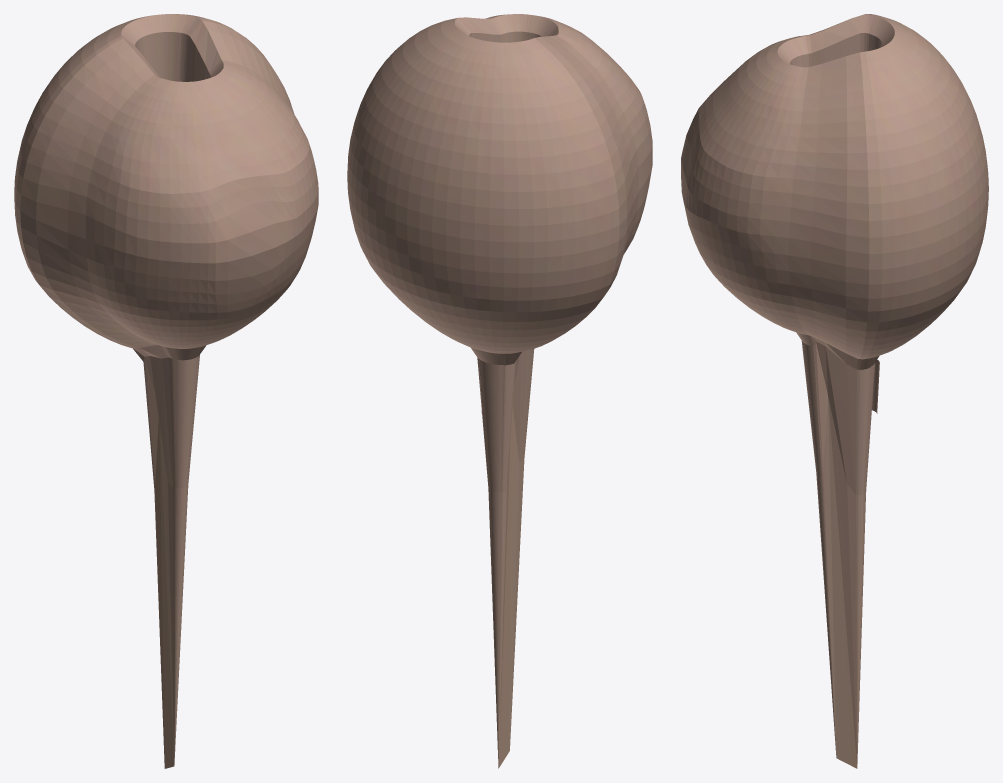
3 views of the same model, side by side, from view 1: azimuth 30°, elevation 25°; view 2: azimuth 150°, elevation 25°; view 3: azimuth 270°, elevation 25° (orthographic).
Parts seen in each view (by area): view 1: world; view 2: world; view 3: world.
Boxes of the visible parts, left/top/right/bottom form: world: left=14, top=14, right=318, bottom=768; world: left=347, top=14, right=652, bottom=768; world: left=681, top=14, right=988, bottom=768.
Bounding box in the file's own units: 0.2385 × 0.6312 × 0.2393.
